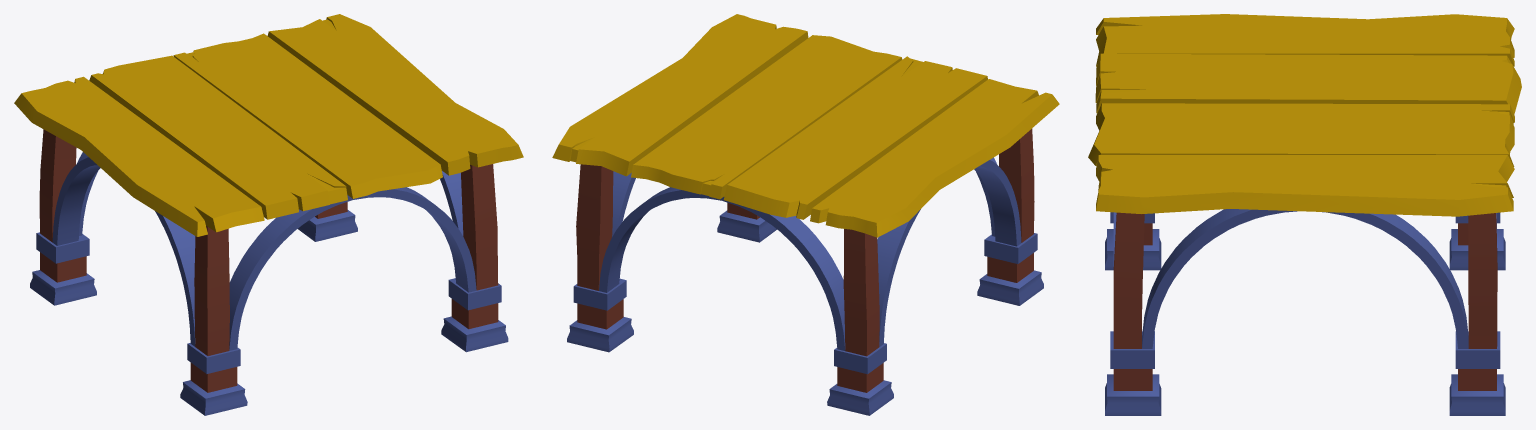
File: table_1.fbx
3 renders of one model, left to right at view 1: azimuth 30°, elevation 25°; view 2: azimuth 150°, elevation 25°; view 3: azimuth 270°, elevation 25°, orthographic. The views are drawn at different scales.
Visible parts, largest first — view 1: Tbale_1.4; view 2: Tbale_1.4; view 3: Tbale_1.4.
Part boxes in pixels (<box>): Tbale_1.4: <box>14,14,523,415</box>; Tbale_1.4: <box>552,14,1059,415</box>; Tbale_1.4: <box>1088,14,1521,415</box>.
Bounding box in the file's own units: 273 × 150 × 261.
